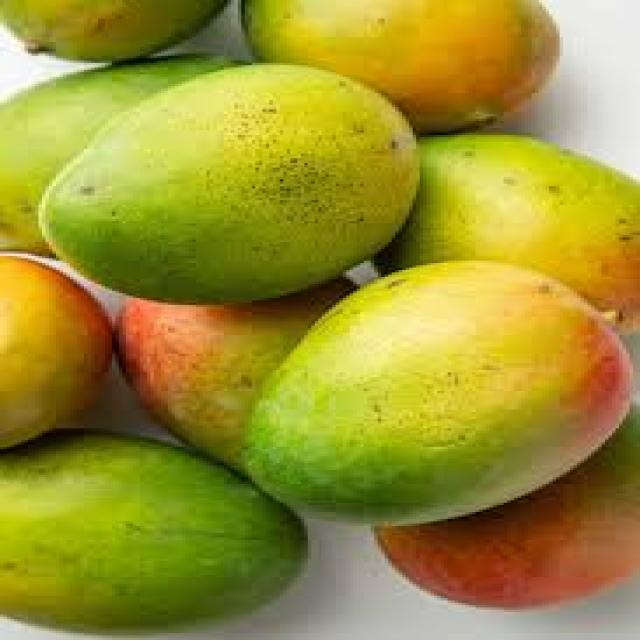mango: (38, 63, 420, 307)
